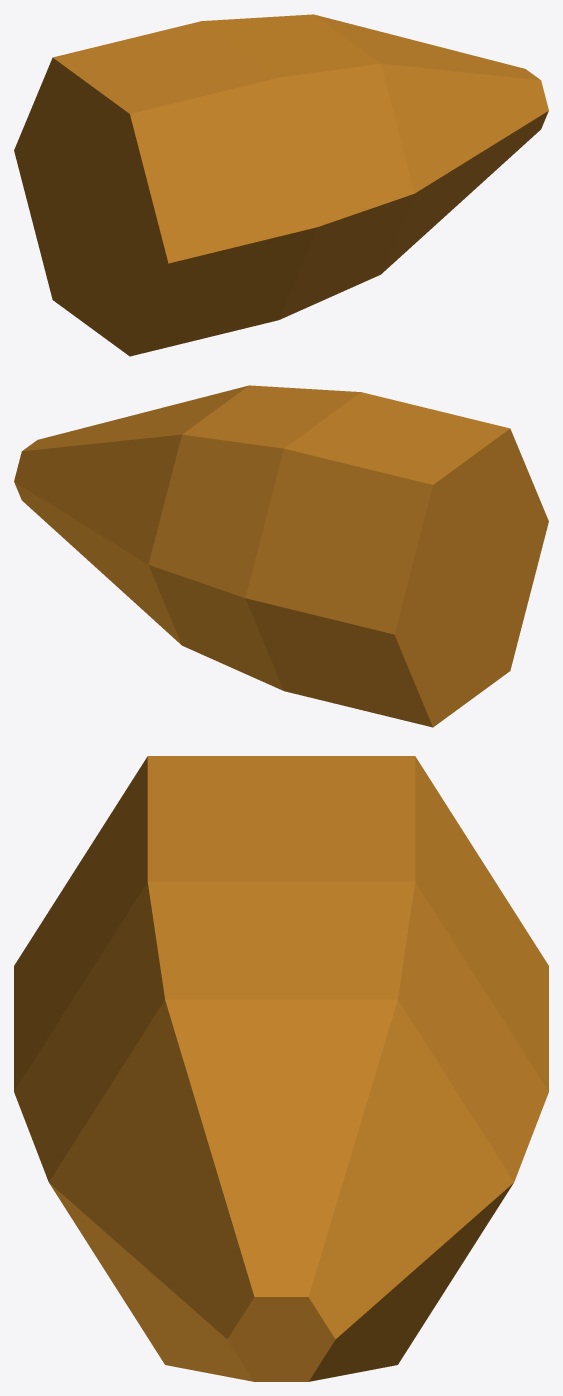
Rendered from Bullet_03.fbx.
3 views of the same model, one above another, from view 1: azimuth 30°, elevation 25°; view 2: azimuth 150°, elevation 25°; view 3: azimuth 270°, elevation 25° (orthographic). The views are drawn at different scales.
Visible parts, largest first — view 1: Bullet_03; view 2: Bullet_03; view 3: Bullet_03.
Part boxes in pixels (<box>): Bullet_03: <box>14,14,548,356</box>; Bullet_03: <box>14,385,548,727</box>; Bullet_03: <box>14,756,548,1381</box>.
Bounding box in the file's own units: 0.0185 × 0.00969 × 0.0112.
